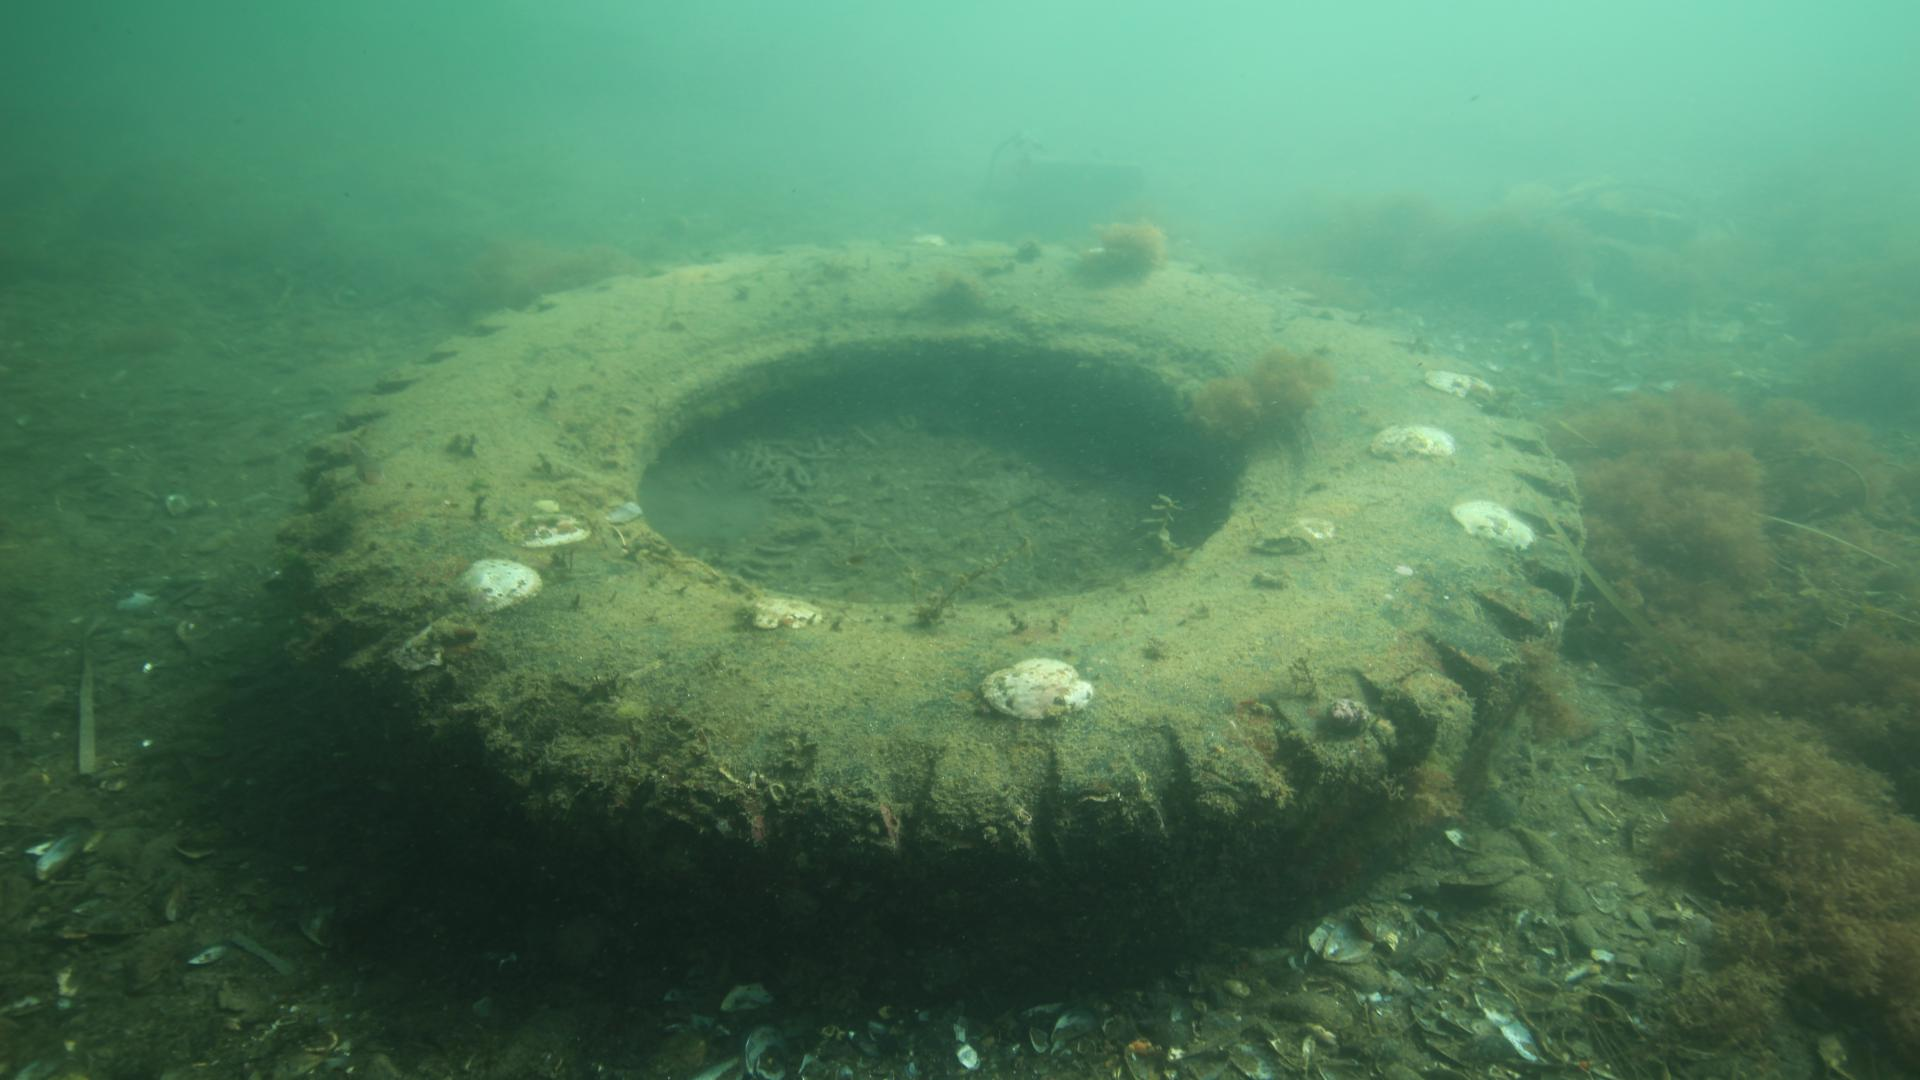tire: (293, 236, 1589, 1007)
